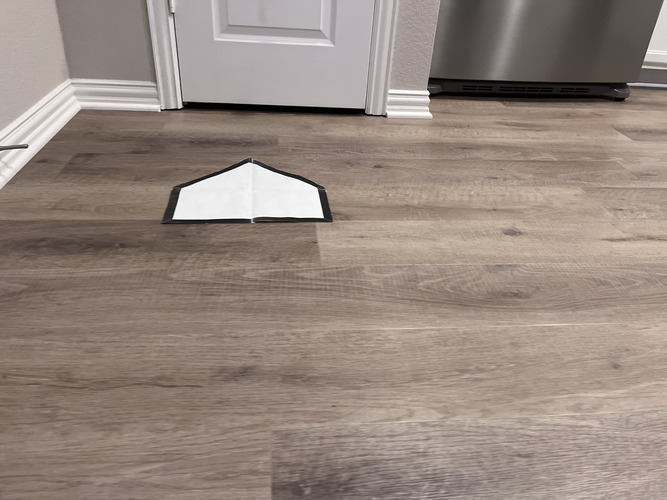homeplate: (160, 157, 331, 224)
